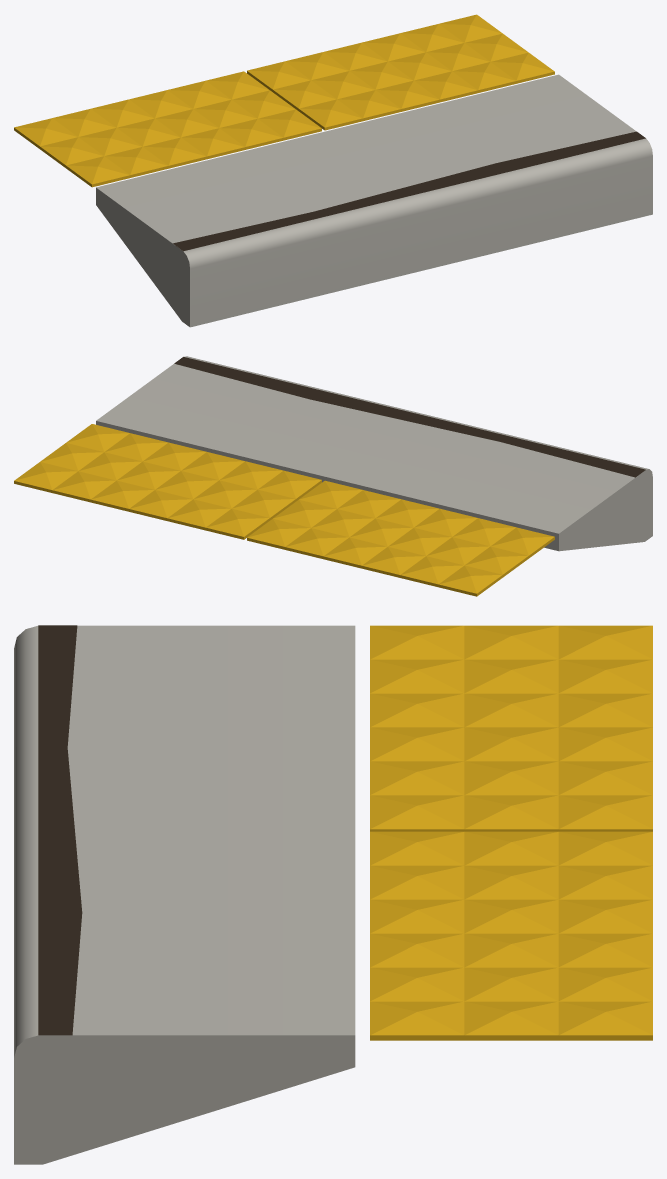
File: platform_edge.glb
The picture shows the model from 3 angles, top to bottom: view 1: azimuth 30°, elevation 25°; view 2: azimuth 150°, elevation 25°; view 3: azimuth 270°, elevation 25°; orthographic projection. The views are drawn at different scales.
Parts seen in each view (by area): view 1: kantenstein, noppen0, noppen1, kante_abrieb; view 2: kantenstein, noppen0, noppen1, kante_abrieb; view 3: kantenstein, noppen1, noppen0, kante_abrieb.
Part boxes in pixels (x1,y1,x2,y2): kantenstein: (96,74,652,327); noppen0: (14,71,321,187); noppen1: (247,14,554,130); kante_abrieb: (173,131,645,251); kantenstein: (96,356,652,551); noppen0: (247,480,554,596); noppen1: (14,424,321,539); kante_abrieb: (174,357,645,477); kantenstein: (14,625,355,1164); noppen1: (370,831,652,1040); noppen0: (370,625,652,831); kante_abrieb: (38,625,82,1035).
Size of the model in its own units: 0.994 by 0.1535 by 0.655.
